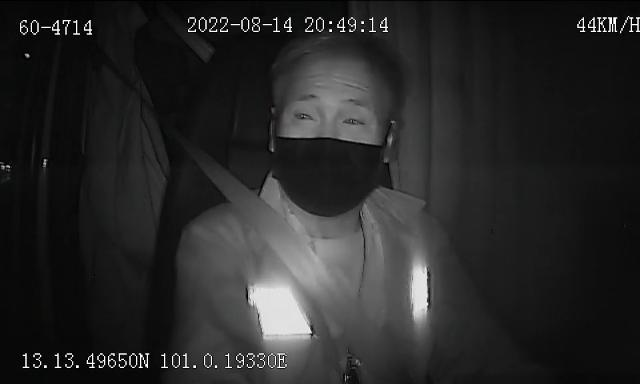SafeDriving: (335, 107, 375, 134), (285, 102, 323, 126)
Seatbelt: (206, 164, 387, 384)
